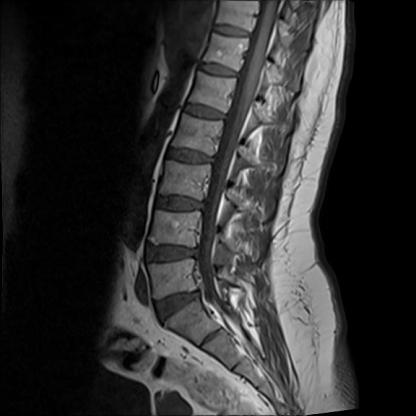Disc Bulgerotation: (150, 286, 204, 325), (140, 236, 202, 267)
